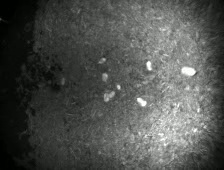corn: (179, 64, 198, 78), (134, 95, 149, 109), (143, 58, 155, 73), (95, 54, 108, 67), (98, 70, 110, 84), (101, 91, 112, 103), (57, 75, 67, 87), (107, 88, 116, 99), (114, 82, 124, 91)
